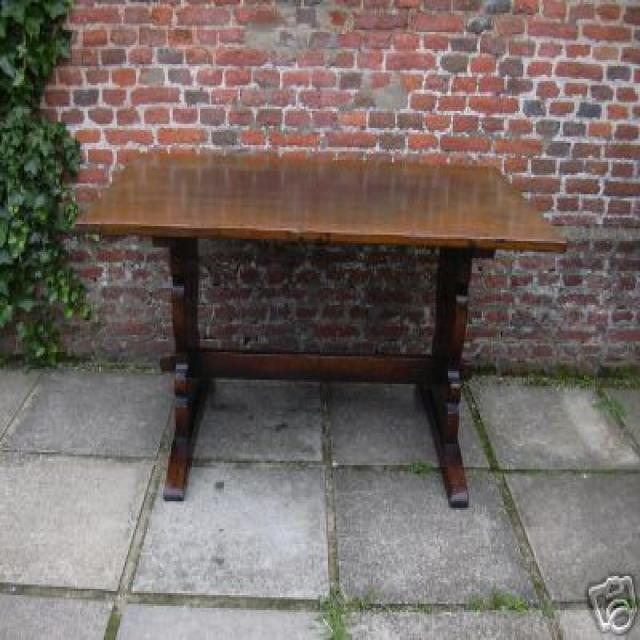table: (77, 158, 560, 507)
